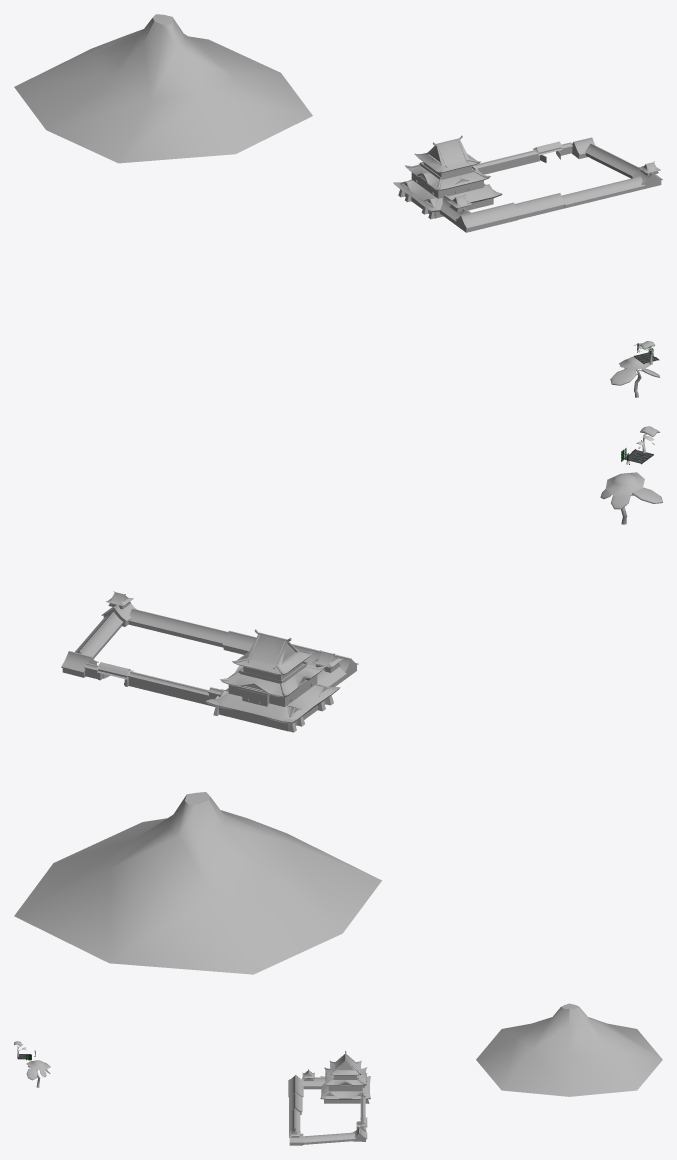
File: ONS.fbx
3 renders of one model, top to bottom at view 1: azimuth 30°, elevation 25°; view 2: azimuth 150°, elevation 25°; view 3: azimuth 270°, elevation 25°, orthographic. The views are drawn at different scales.
Visible parts, largest first — view 1: ONS:huzi, ONS:new_osiro__9_28_pm11_00:cube2, ONS:new_osiro__9_28_pm11_00:polymsh, ONS:new_osiro__9_28_pm11_00:hei4, ONS:new_osiro__9_28_pm11_00:cube3, ONS:new_osiro__9_28_pm11_00:hei2, ONS:new_osiro__9_28_pm11_00:hei6, ONS:new_osiro__9_28_pm11_00:hei3, ONS:new_osiro__9_28_pm11_00:cube4; view 2: ONS:huzi, ONS:new_osiro__9_28_pm11_00:polymsh, ONS:new_osiro__9_28_pm11_00:cube2, ONS:new_osiro__9_28_pm11_00:cube3, ONS:new_osiro__9_28_pm11_00:hei4, ONS:new_osiro__9_28_pm11_00:cube5, ONS:new_osiro__9_28_pm11_00:cube4, ONS:new_osiro__9_28_pm11_00:hei6, ONS:new_osiro__9_28_pm11_00:cube18; view 3: ONS:huzi, ONS:new_osiro__9_28_pm11_00:polymsh, ONS:new_osiro__9_28_pm11_00:cube2, ONS:new_osiro__9_28_pm11_00:cube3, ONS:new_osiro__9_28_pm11_00:hei6, ONS:new_osiro__9_28_pm11_00:hei2, ONS:new_osiro__9_28_pm11_00:hei4.
Boxes of the visible parts, x1,y1,x2,y2 form: ONS:huzi: (14,14,312,163); ONS:new_osiro__9_28_pm11_00:cube2: (414,135,481,172); ONS:new_osiro__9_28_pm11_00:polymsh: (393,179,502,212); ONS:new_osiro__9_28_pm11_00:hei4: (561,176,645,205); ONS:new_osiro__9_28_pm11_00:cube3: (404,163,490,190); ONS:new_osiro__9_28_pm11_00:hei2: (456,202,519,228); ONS:new_osiro__9_28_pm11_00:hei6: (585,143,639,176); ONS:new_osiro__9_28_pm11_00:hei3: (514,193,565,215); ONS:new_osiro__9_28_pm11_00:cube4: (411,172,483,198); ONS:huzi: (14,792,381,974); ONS:new_osiro__9_28_pm11_00:polymsh: (205,683,340,723); ONS:new_osiro__9_28_pm11_00:cube2: (232,629,314,675); ONS:new_osiro__9_28_pm11_00:cube3: (220,665,325,697); ONS:new_osiro__9_28_pm11_00:hei4: (128,608,228,644); ONS:new_osiro__9_28_pm11_00:cube5: (213,695,333,732); ONS:new_osiro__9_28_pm11_00:cube4: (228,675,317,706); ONS:new_osiro__9_28_pm11_00:hei6: (75,612,123,657); ONS:new_osiro__9_28_pm11_00:cube18: (128,677,222,706); ONS:huzi: (476,1003,662,1096); ONS:new_osiro__9_28_pm11_00:polymsh: (320,1076,370,1099); ONS:new_osiro__9_28_pm11_00:cube2: (329,1050,361,1075); ONS:new_osiro__9_28_pm11_00:cube3: (324,1067,367,1085); ONS:new_osiro__9_28_pm11_00:hei6: (303,1132,355,1143); ONS:new_osiro__9_28_pm11_00:hei2: (288,1074,303,1097); ONS:new_osiro__9_28_pm11_00:hei4: (289,1108,300,1137).
Bounding box in the file's own units: 382 × 85.05 × 825.
